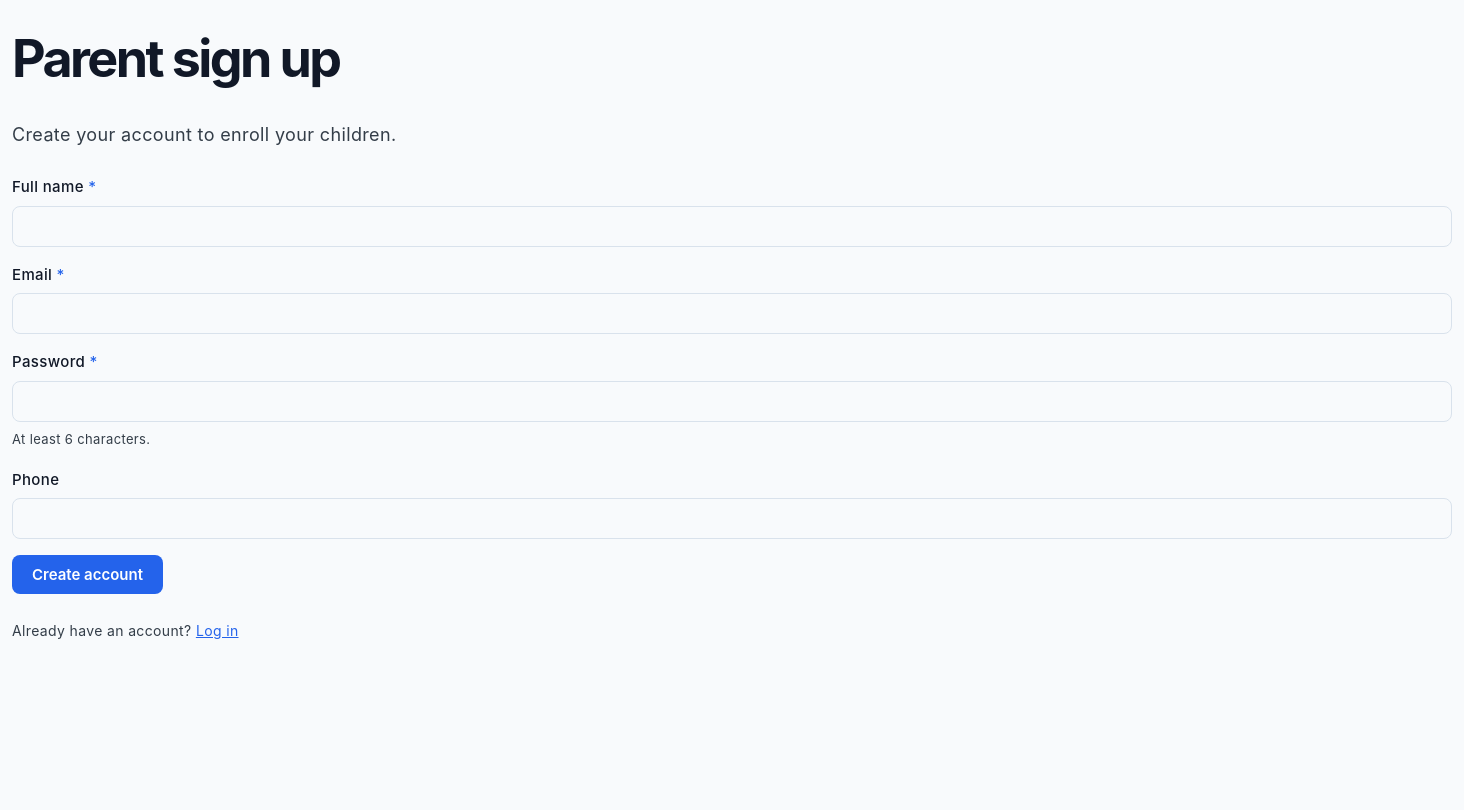
Test: ParentSignupForm › shows a confirm-email message when post-signup sign-in fails
This screenshot has width=1464, height=810.
Type "Jane Parent" into the field labelled "Full name *" at [732, 226], box x1=12 y1=206 x2=1452 y2=247
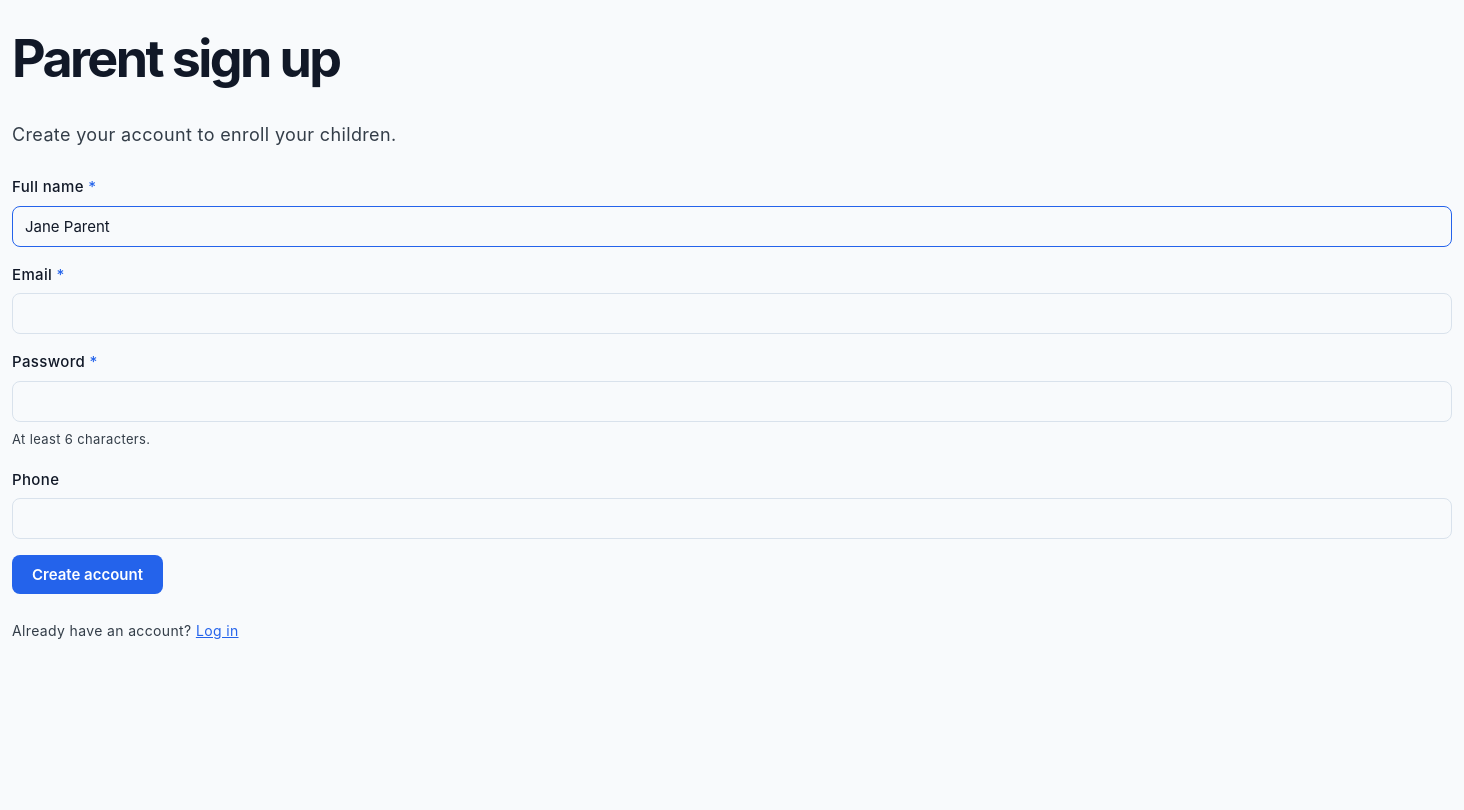
Type "parent@example.com" into the field labelled "Email *" at [732, 314], box x1=12 y1=294 x2=1452 y2=334
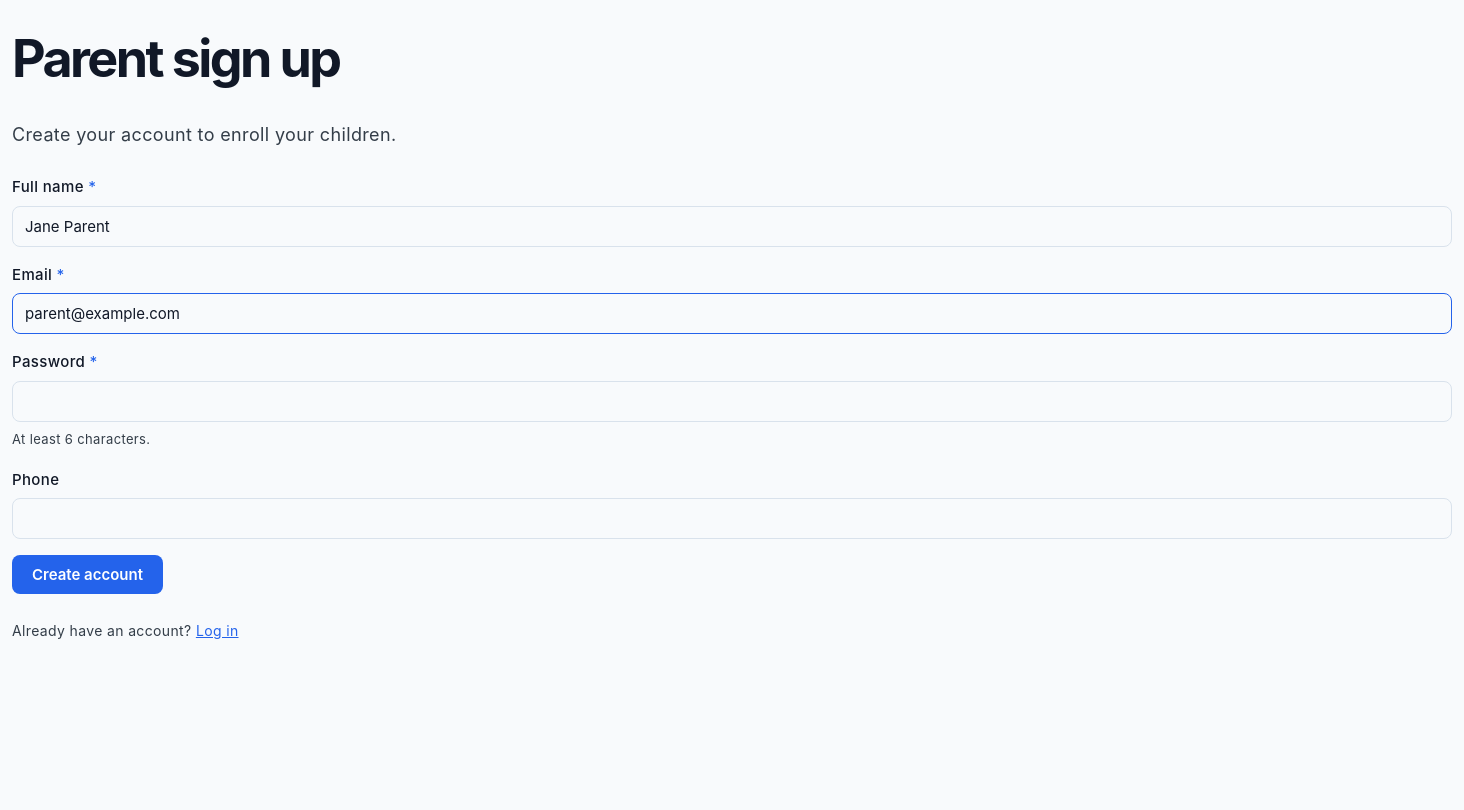
Type "secret123" into the password field labelled "Password *" at [732, 402], box x1=12 y1=381 x2=1452 y2=422
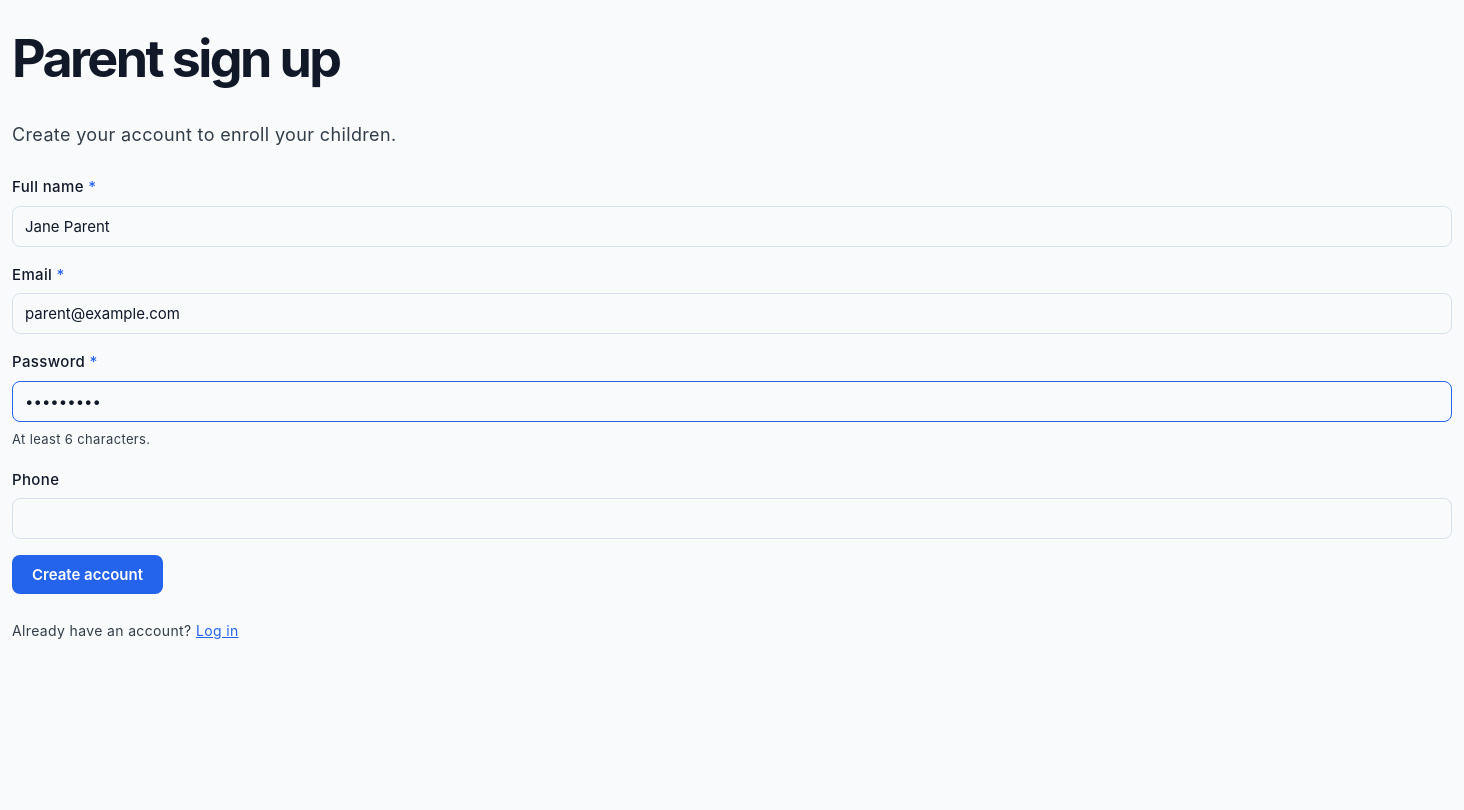
Type "5551234567" into the field labelled "Phone" at [732, 519], box x1=12 y1=498 x2=1452 y2=539
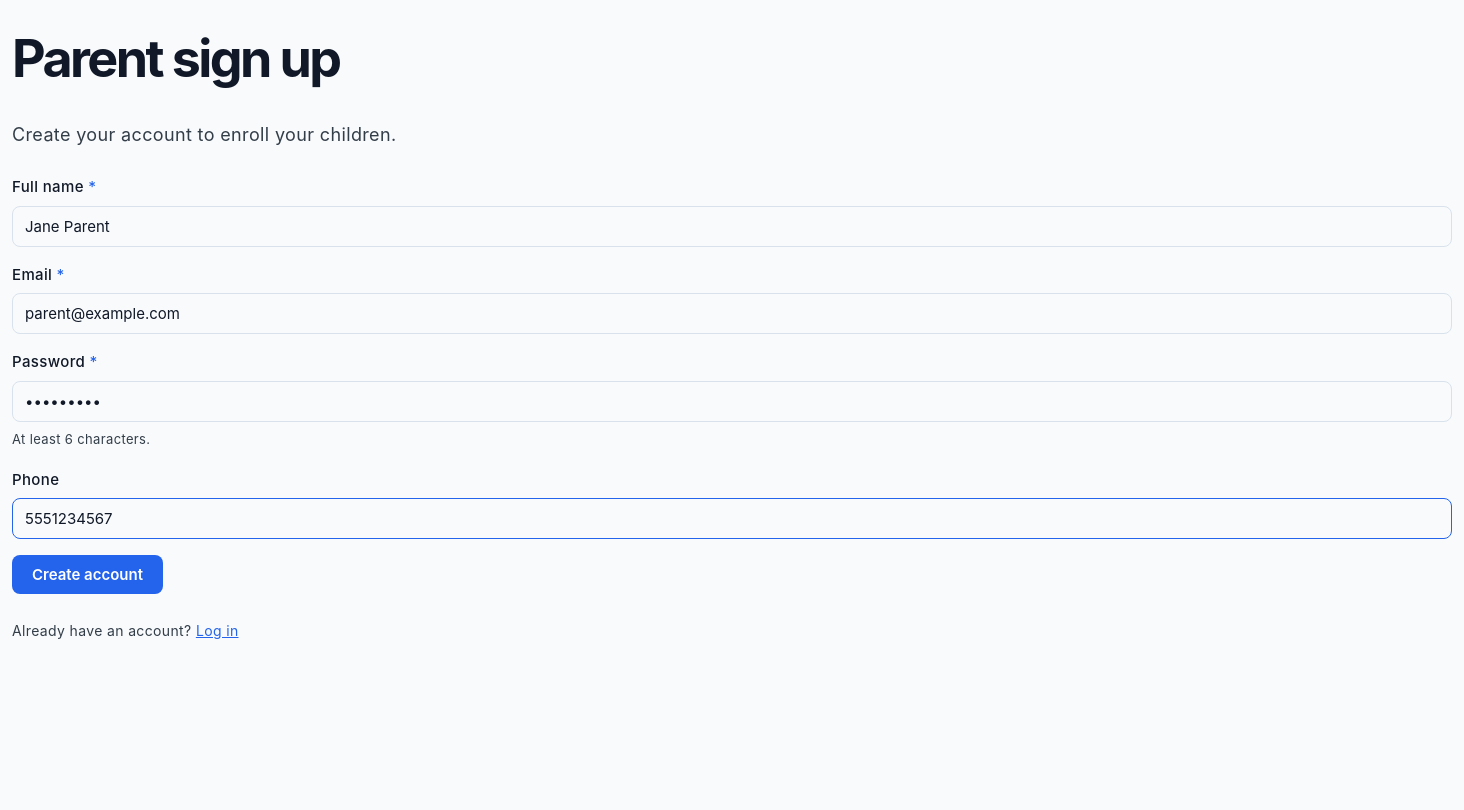
Click the button "Create account" at [88, 575], box x1=12 y1=555 x2=163 y2=594
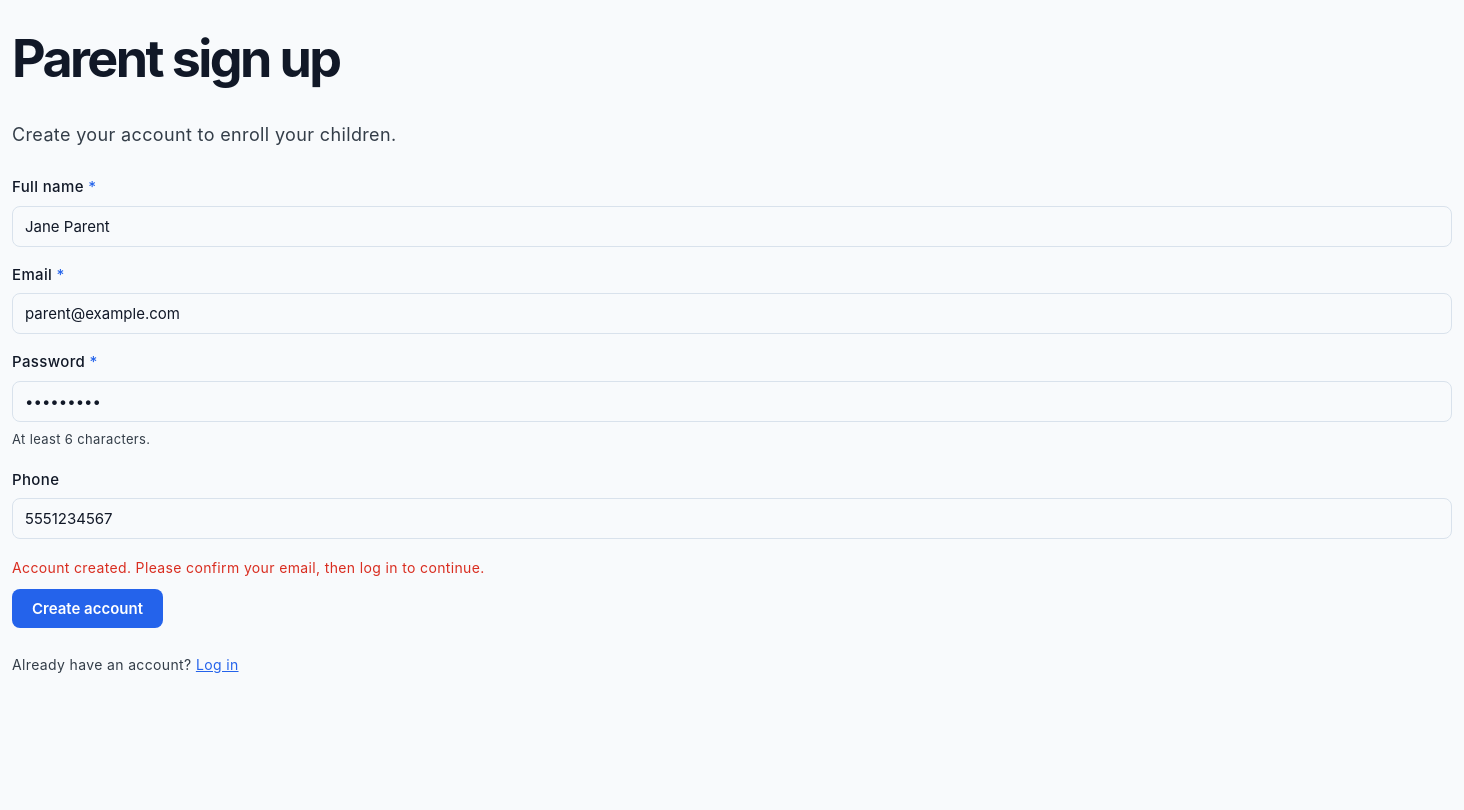
Check: the text "Account created. Please confirm your email, then log in to continue." is shown, box x1=12 y1=559 x2=485 y2=576
